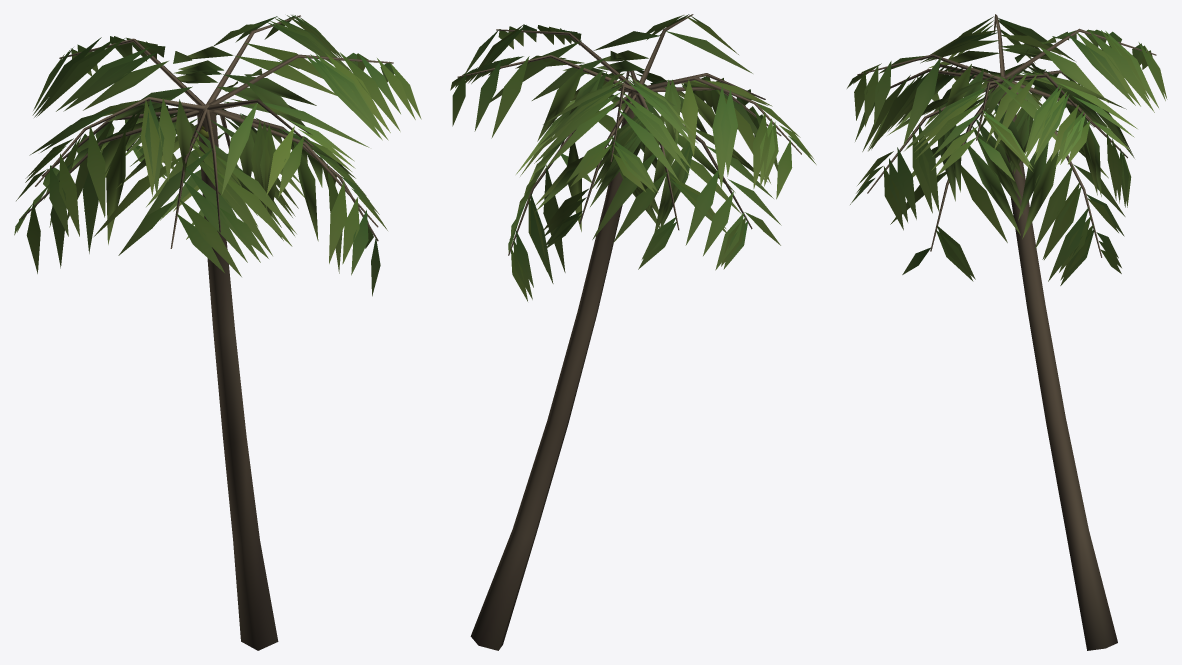
Rendered from palm-b.lod2.glb.
The picture shows the model from 3 angles, left to right: view 1: azimuth 30°, elevation 25°; view 2: azimuth 150°, elevation 25°; view 3: azimuth 270°, elevation 25°; orthographic projection. The views are drawn at different scales.
Size of the model in its own units: 5.92 by 10.08 by 5.21.
